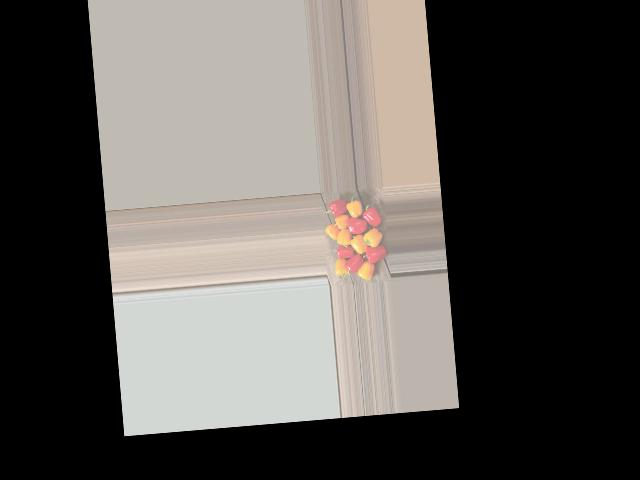bell_pepper: (356, 255, 379, 281)
